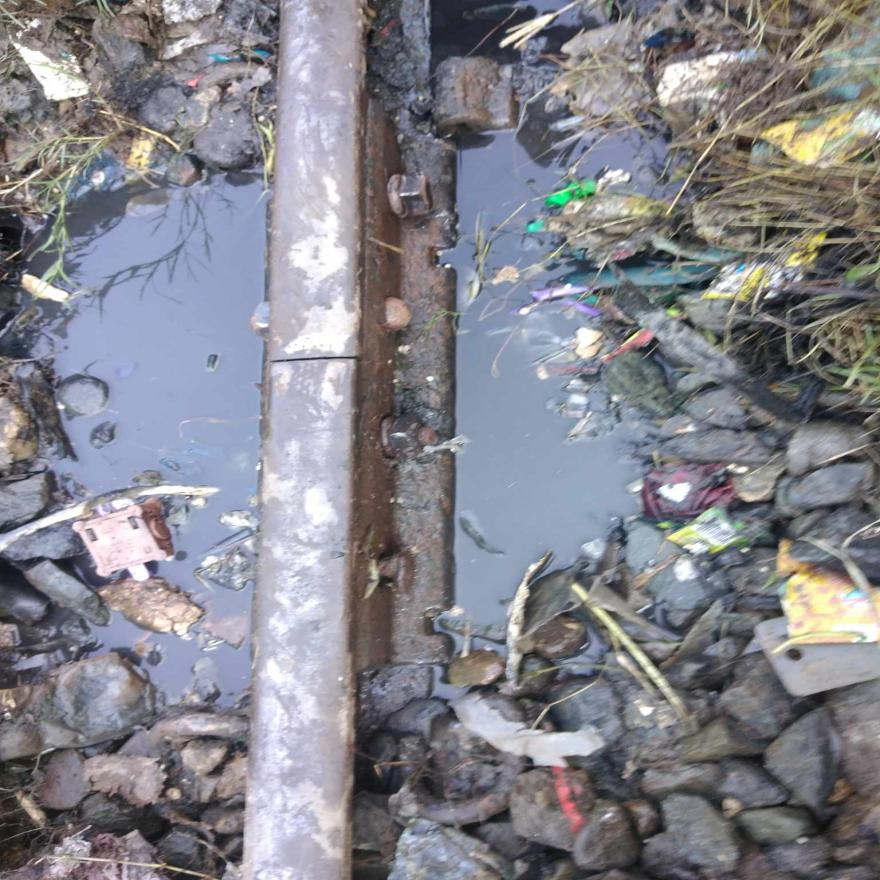railway-gap: (237, 300, 398, 418)
